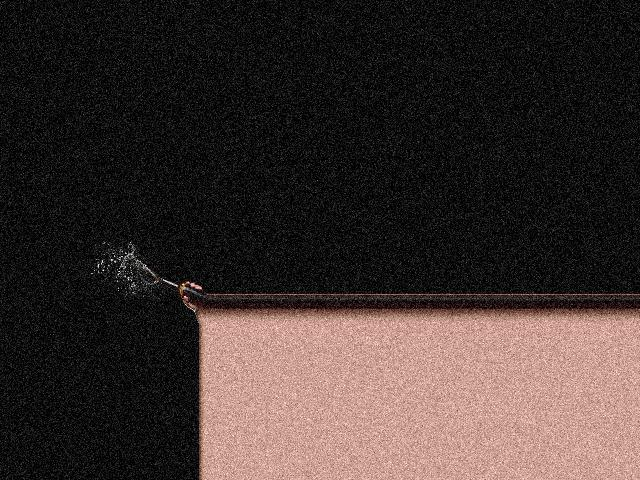beer: (157, 276, 206, 310)
